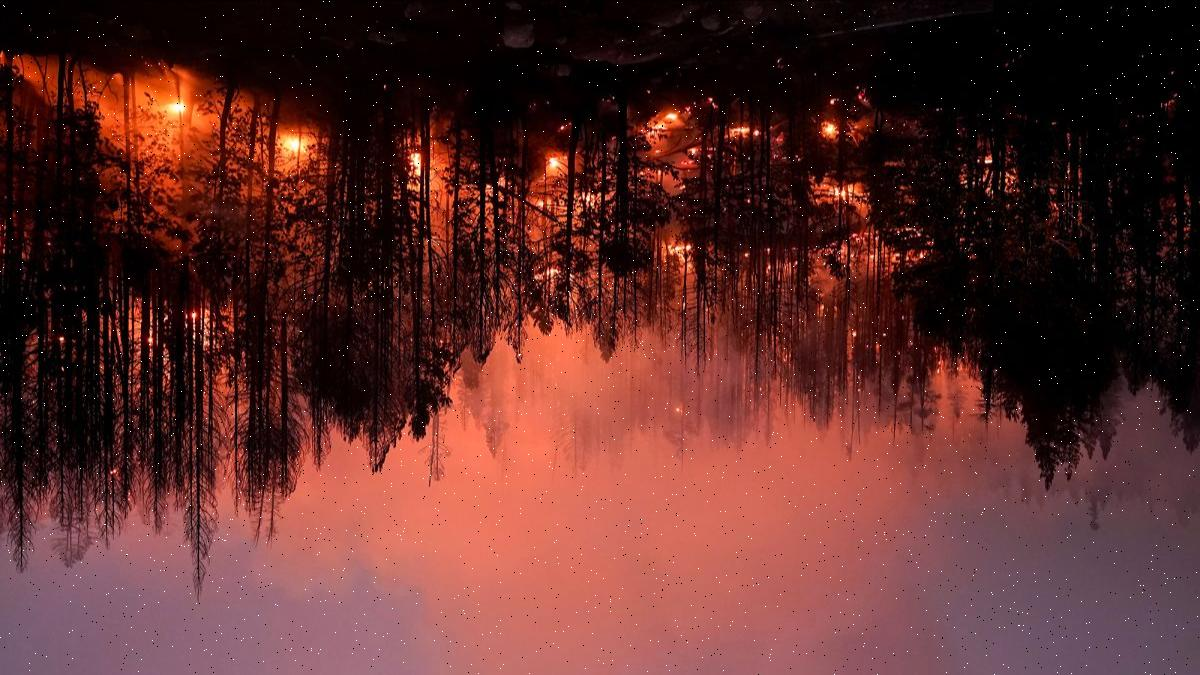fire: (58, 48, 908, 332)
